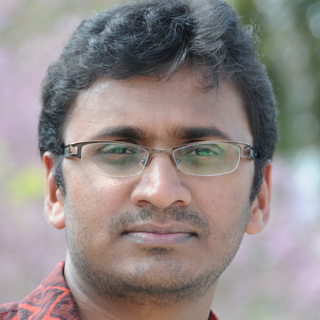eye: (96, 141, 144, 161), (182, 139, 222, 161)
